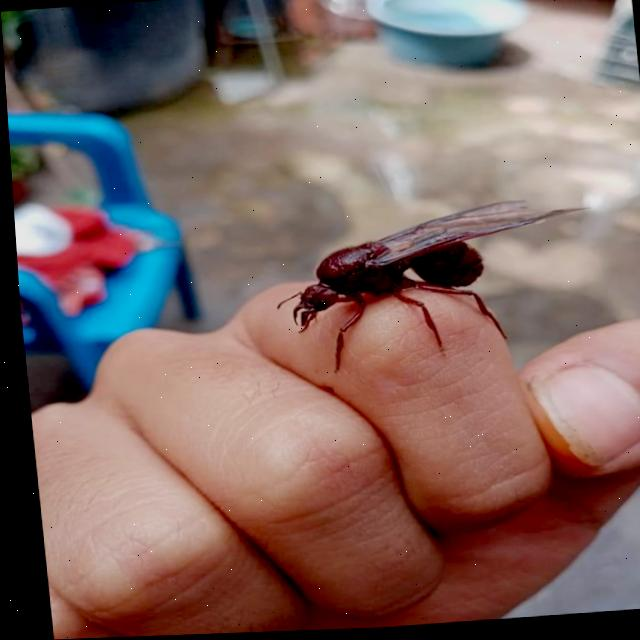Alive-Female-Alate: (263, 198, 601, 381)
